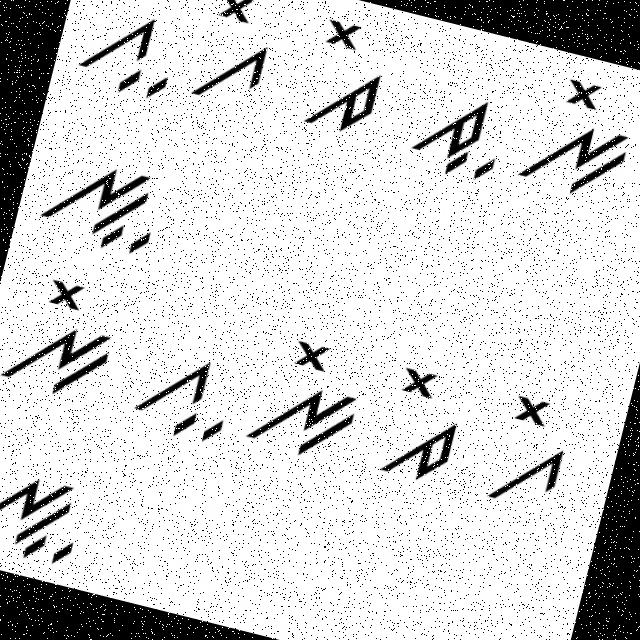gah: (61, 0, 189, 121), (114, 337, 239, 454)
go: (476, 381, 588, 519), (184, 0, 290, 115)
ngah: (32, 135, 175, 268), (0, 442, 95, 580)
ngo: (0, 263, 133, 413), (240, 326, 374, 464), (510, 65, 639, 208)
tah: (398, 81, 511, 196)
to: (370, 355, 478, 498), (295, 11, 397, 148)
